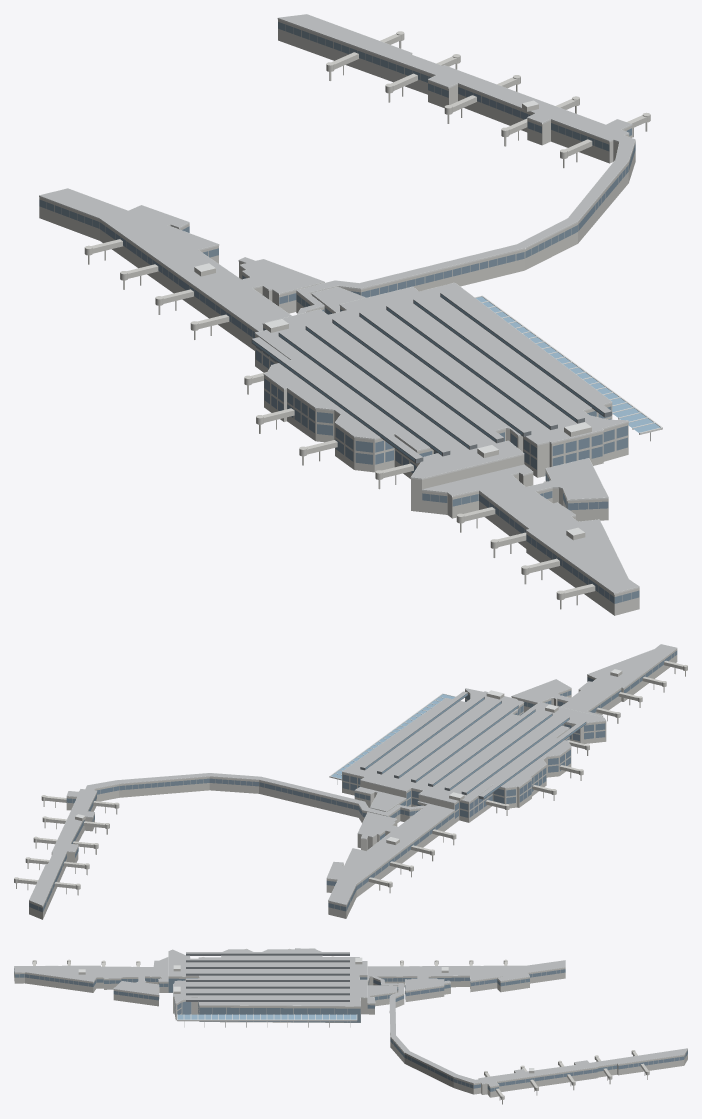
File: london-heathrow-terminal-4.detail.glb
3 renders of one model, top to bottom at view 1: azimuth 30°, elevation 25°; view 2: azimuth 150°, elevation 25°; view 3: azimuth 270°, elevation 25°, orthographic. The views are drawn at different scales.
Visible parts, largest first — view 1: Heathrow Terminal 4; view 2: Heathrow Terminal 4; view 3: Heathrow Terminal 4.
Part boxes in pixels (<box>): Heathrow Terminal 4: <box>39,14,662,615</box>; Heathrow Terminal 4: <box>14,644,687,919</box>; Heathrow Terminal 4: <box>14,948,687,1104</box>.
Bounding box in the file's own units: 405 × 24.5 × 779.
